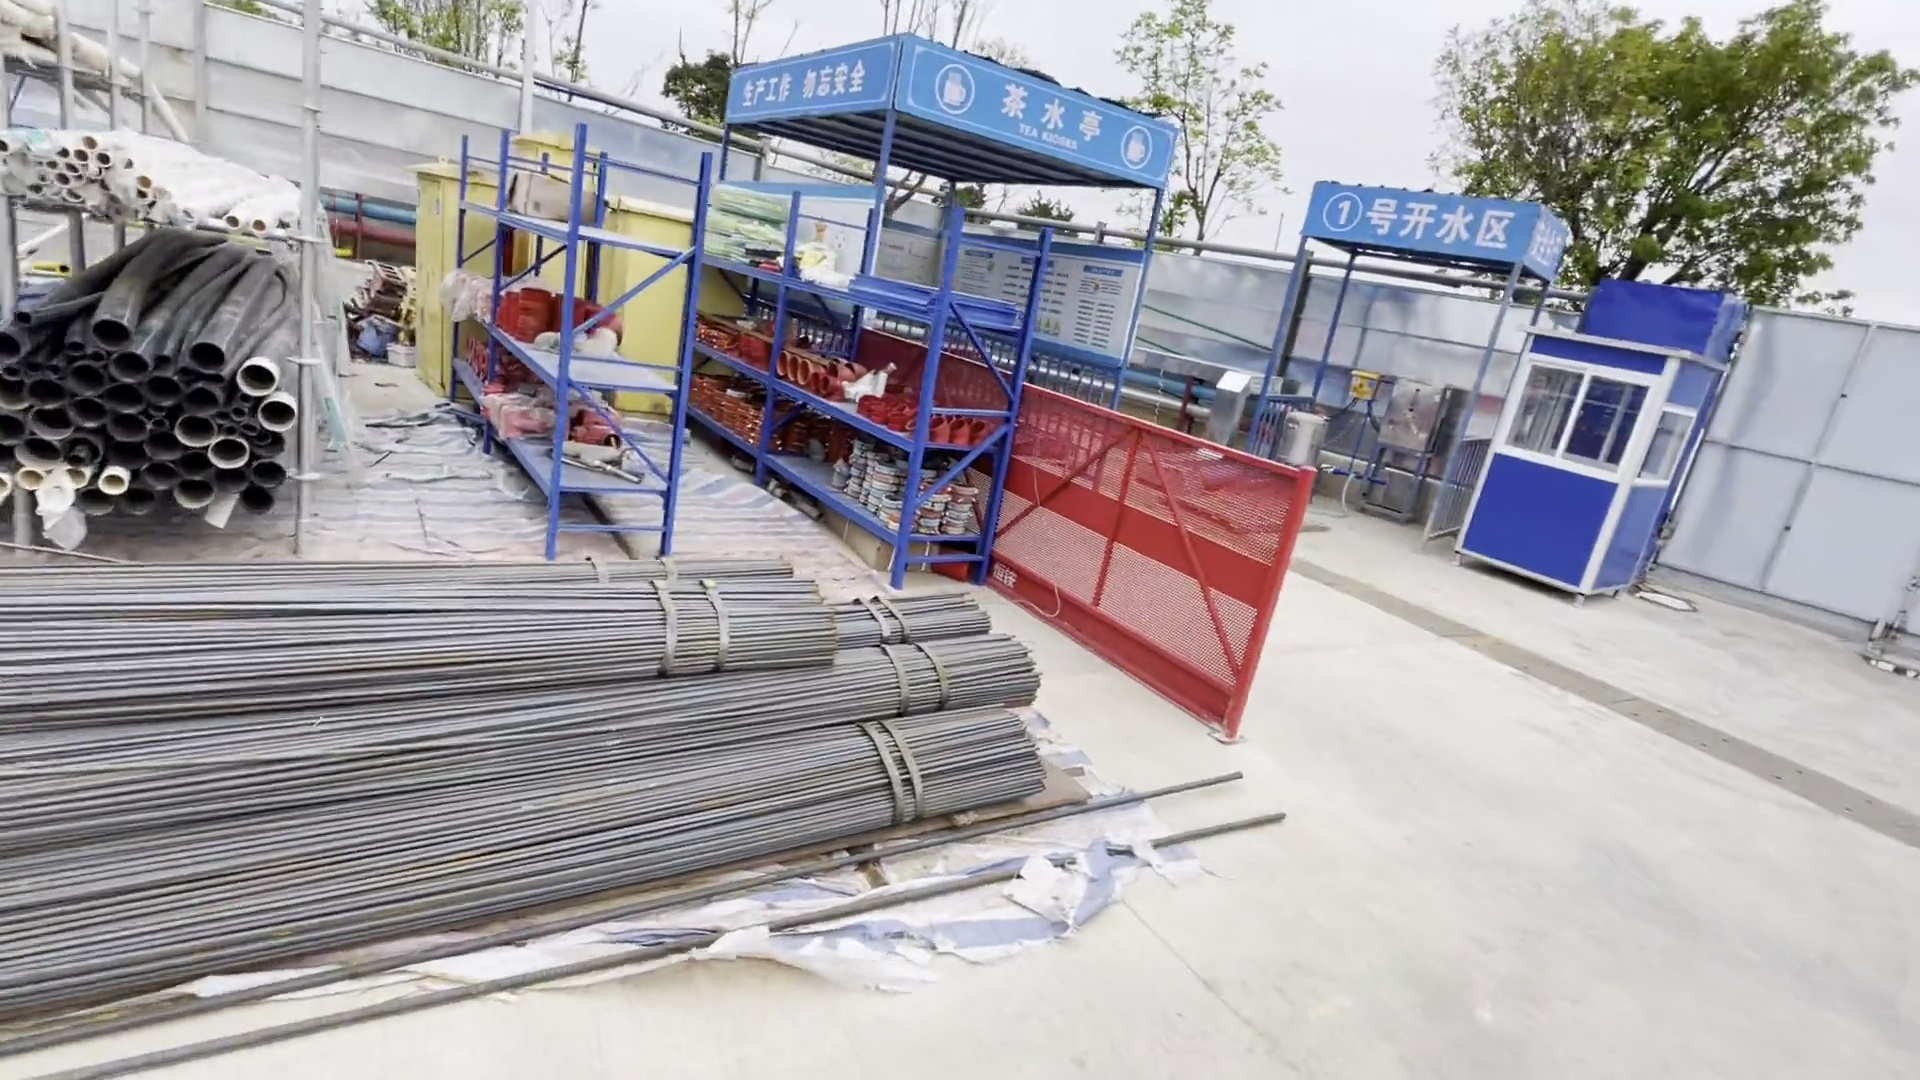ebox: (404, 156, 512, 393), (589, 199, 691, 446), (508, 124, 588, 328), (1345, 369, 1379, 407)
fence: (978, 375, 1294, 694)
rebar: (1, 571, 1073, 1033)
slogan: (729, 61, 872, 117)
